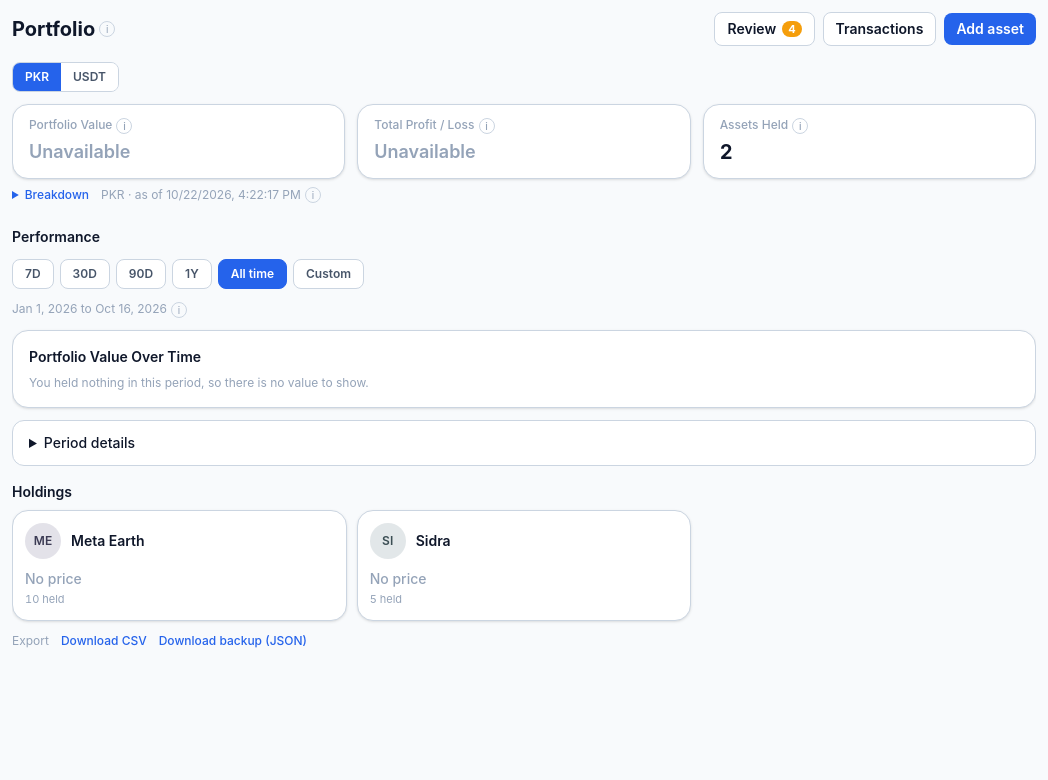
Review center › lists what is missing with a direct action each, and says nothing is counted as zero
Click the button "Review 4": (765, 29) [714, 12, 815, 46]
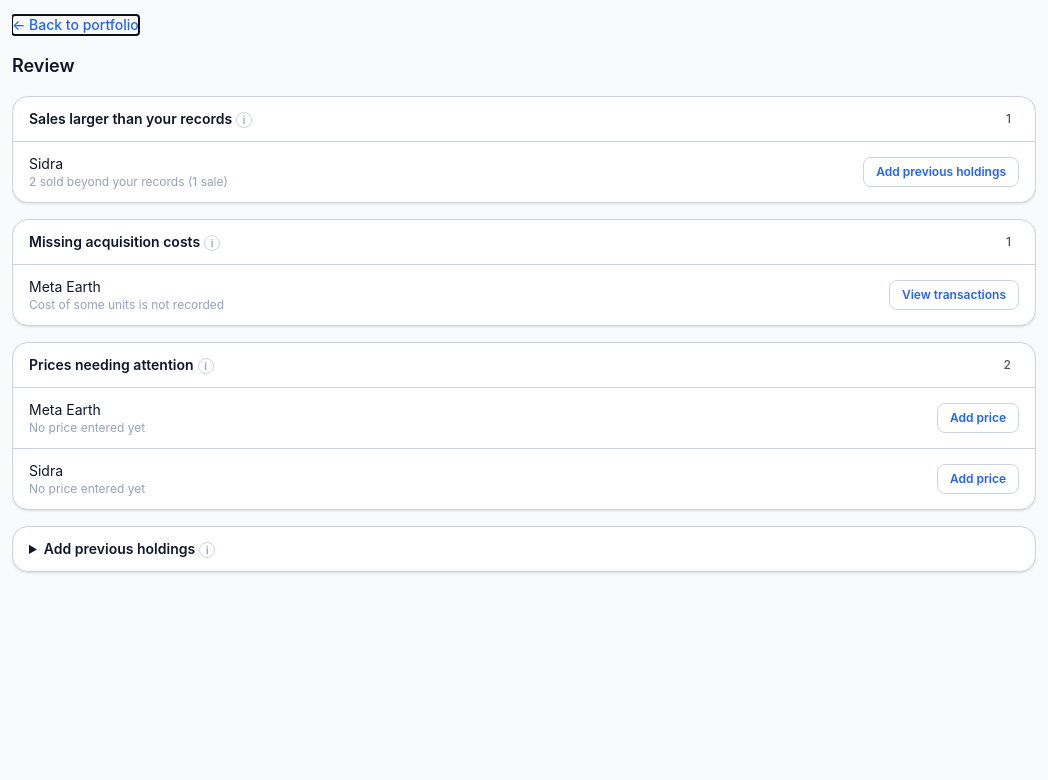
Result: the text "Prices needing attention" is shown at [29, 356, 194, 373]
Result: the button with aria-label "Add price: Meta Earth" is shown at [937, 403, 1019, 433]
Result: the button with aria-label "Add price: Sidra" is shown at [937, 464, 1019, 494]
